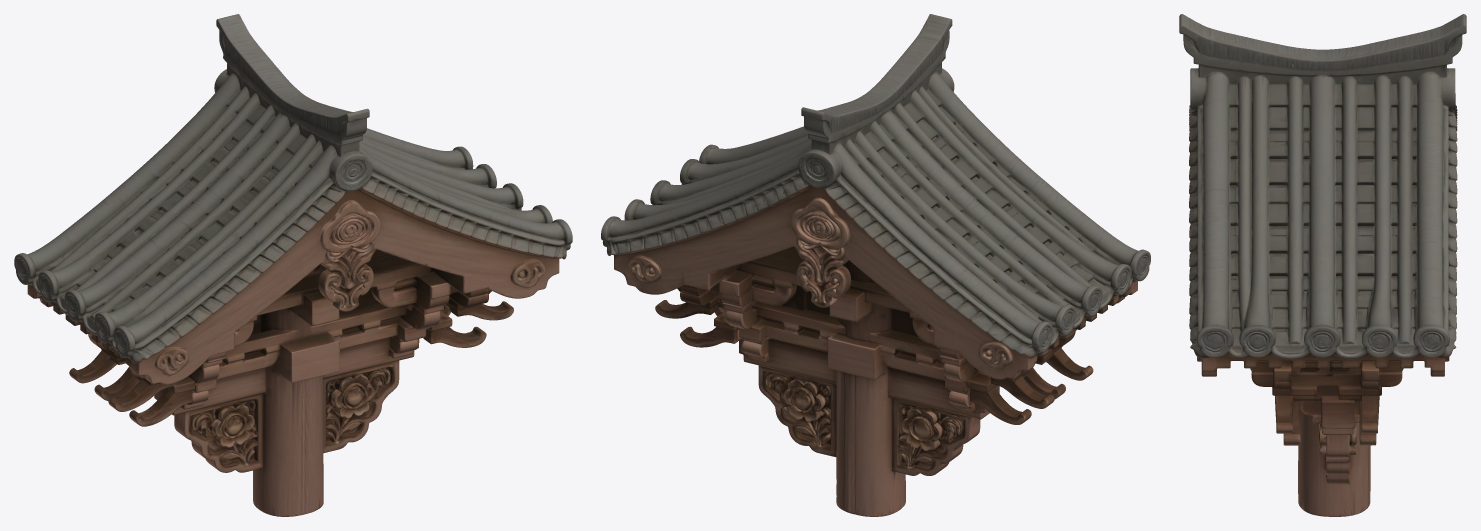
The picture shows the model from 3 angles, left to right: view 1: azimuth 30°, elevation 25°; view 2: azimuth 150°, elevation 25°; view 3: azimuth 270°, elevation 25°; orthographic projection. The views are drawn at different scales.
Parts seen in each view (by area): view 1: node_0; view 2: node_0; view 3: node_0.
Boxes of the visible parts, x1,y1,x2,y2 form: node_0: [14, 14, 572, 516]; node_0: [601, 14, 1150, 516]; node_0: [1179, 14, 1466, 516].
Bounding box in the file's own units: 1.08 × 1.03 × 0.5584.
1 material, 1 textured.
